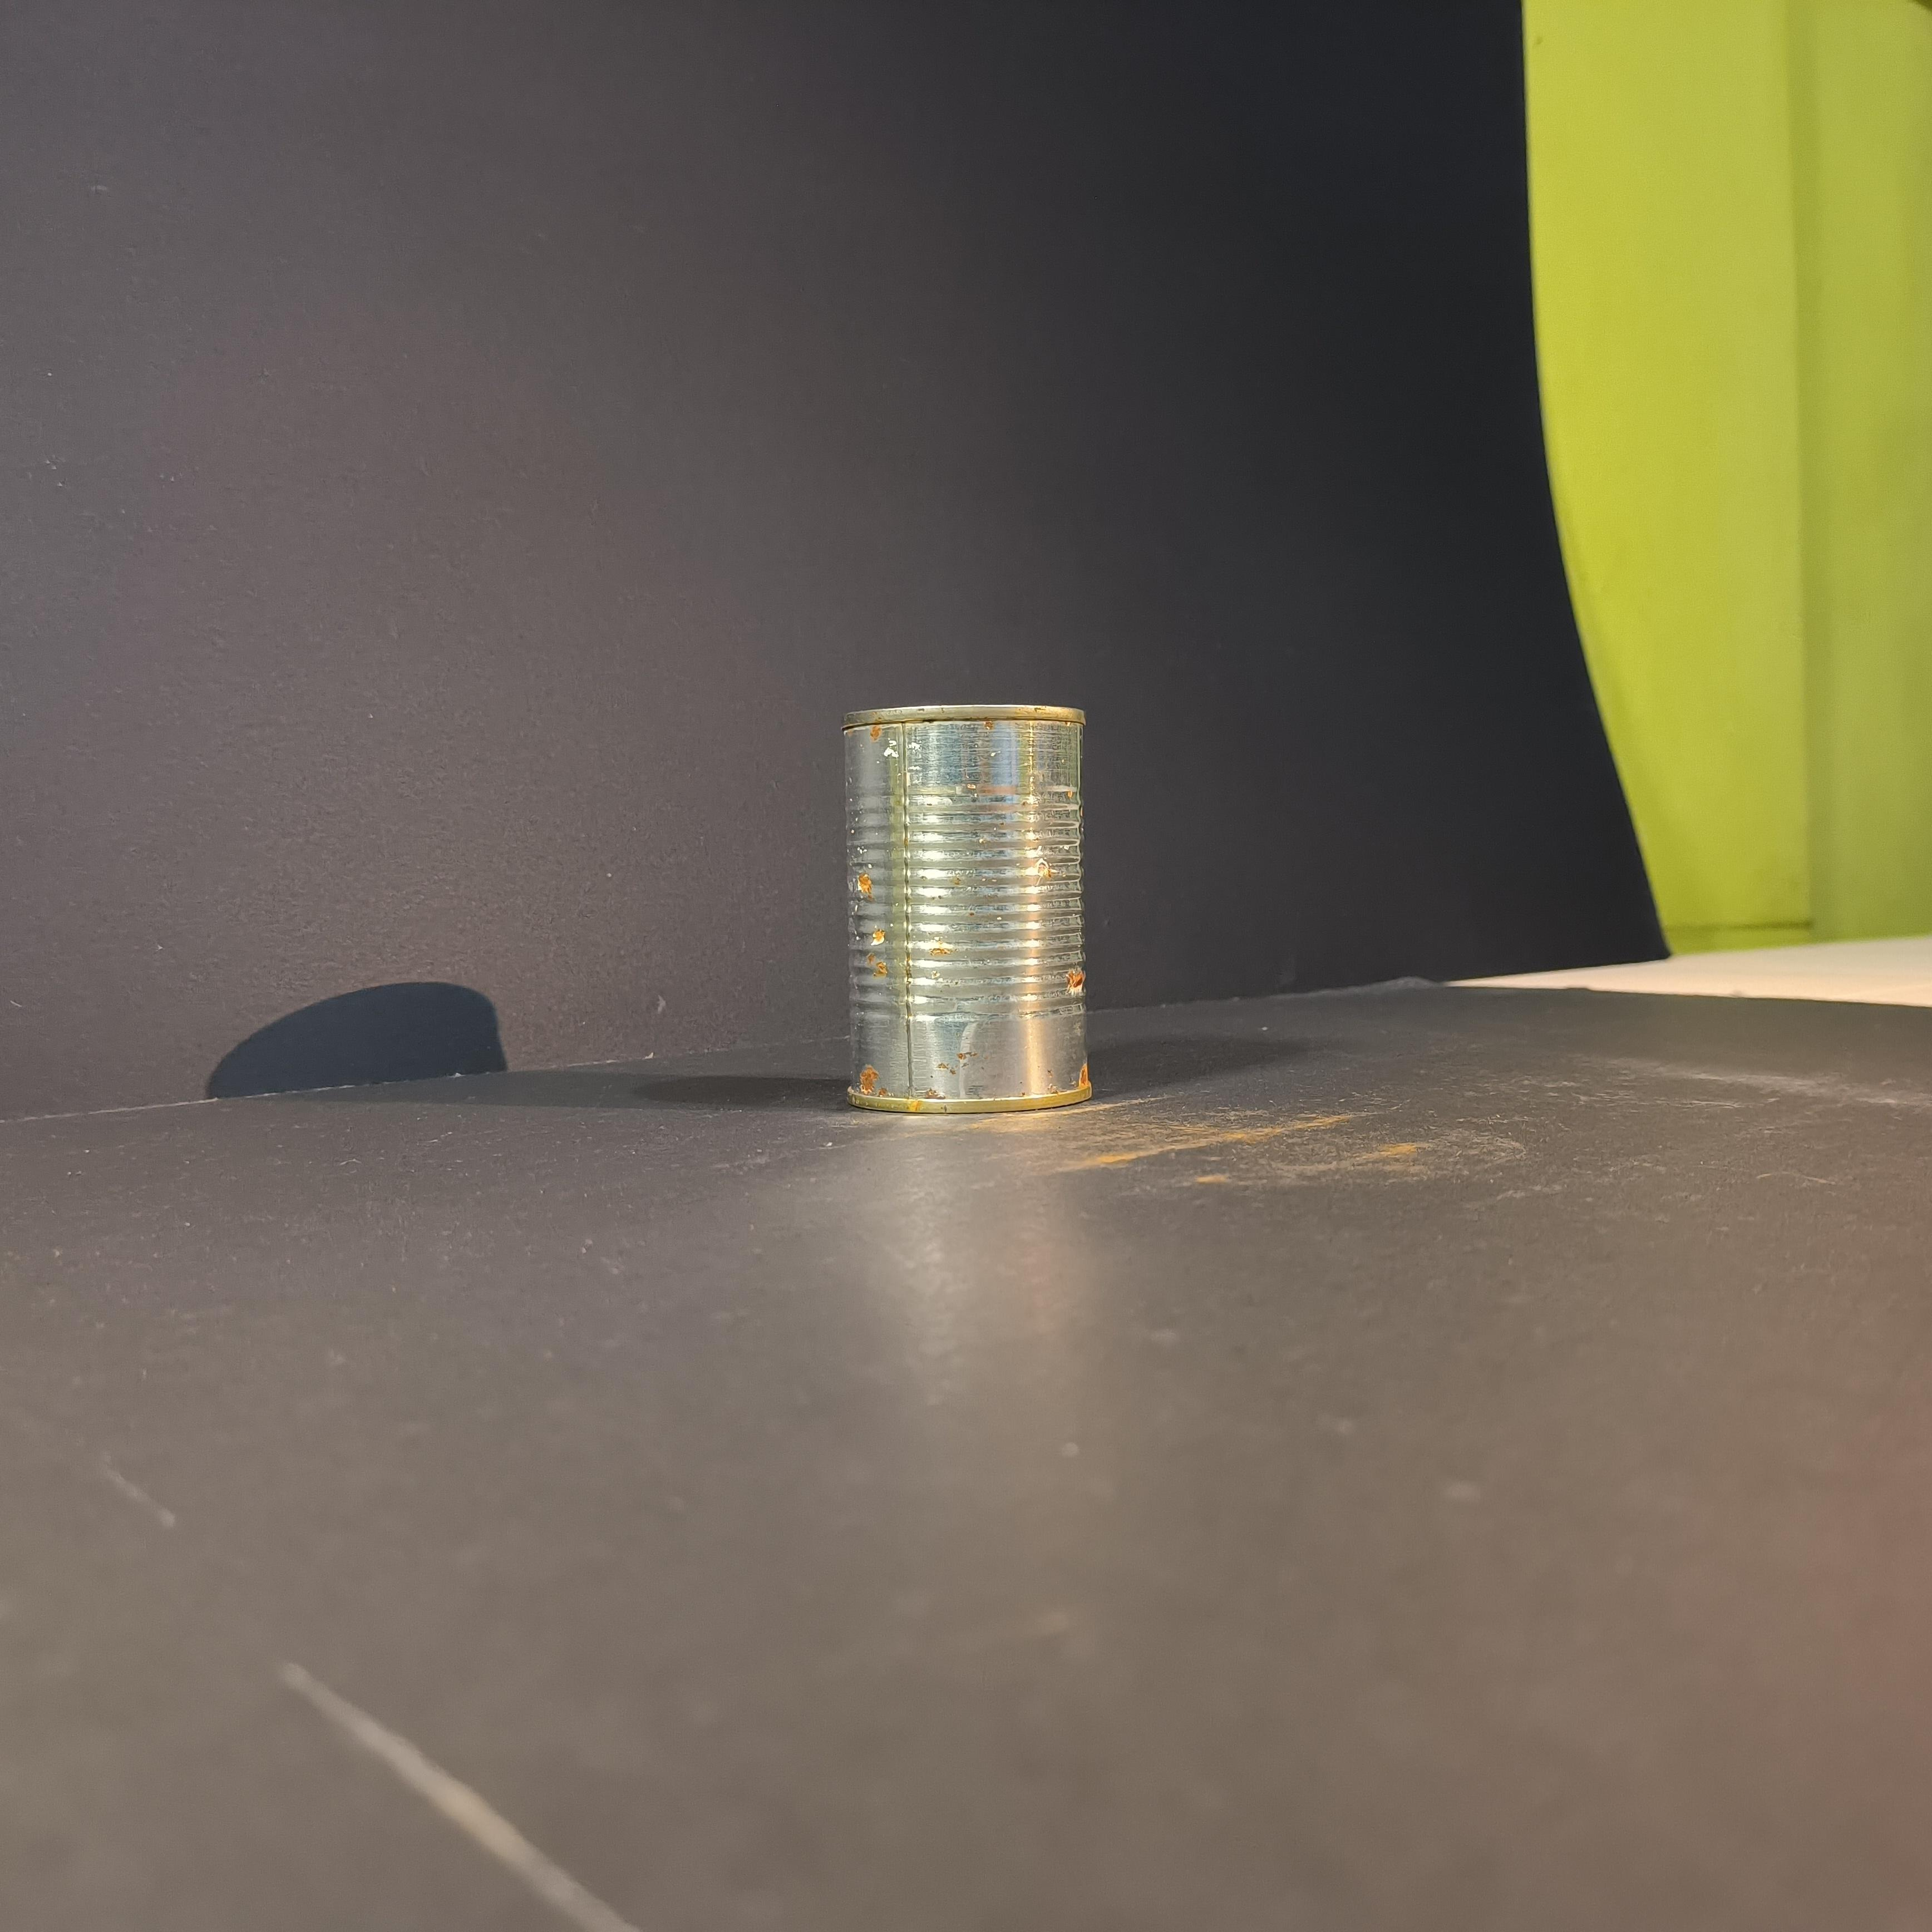Rusted: (810, 690, 1104, 1143)
